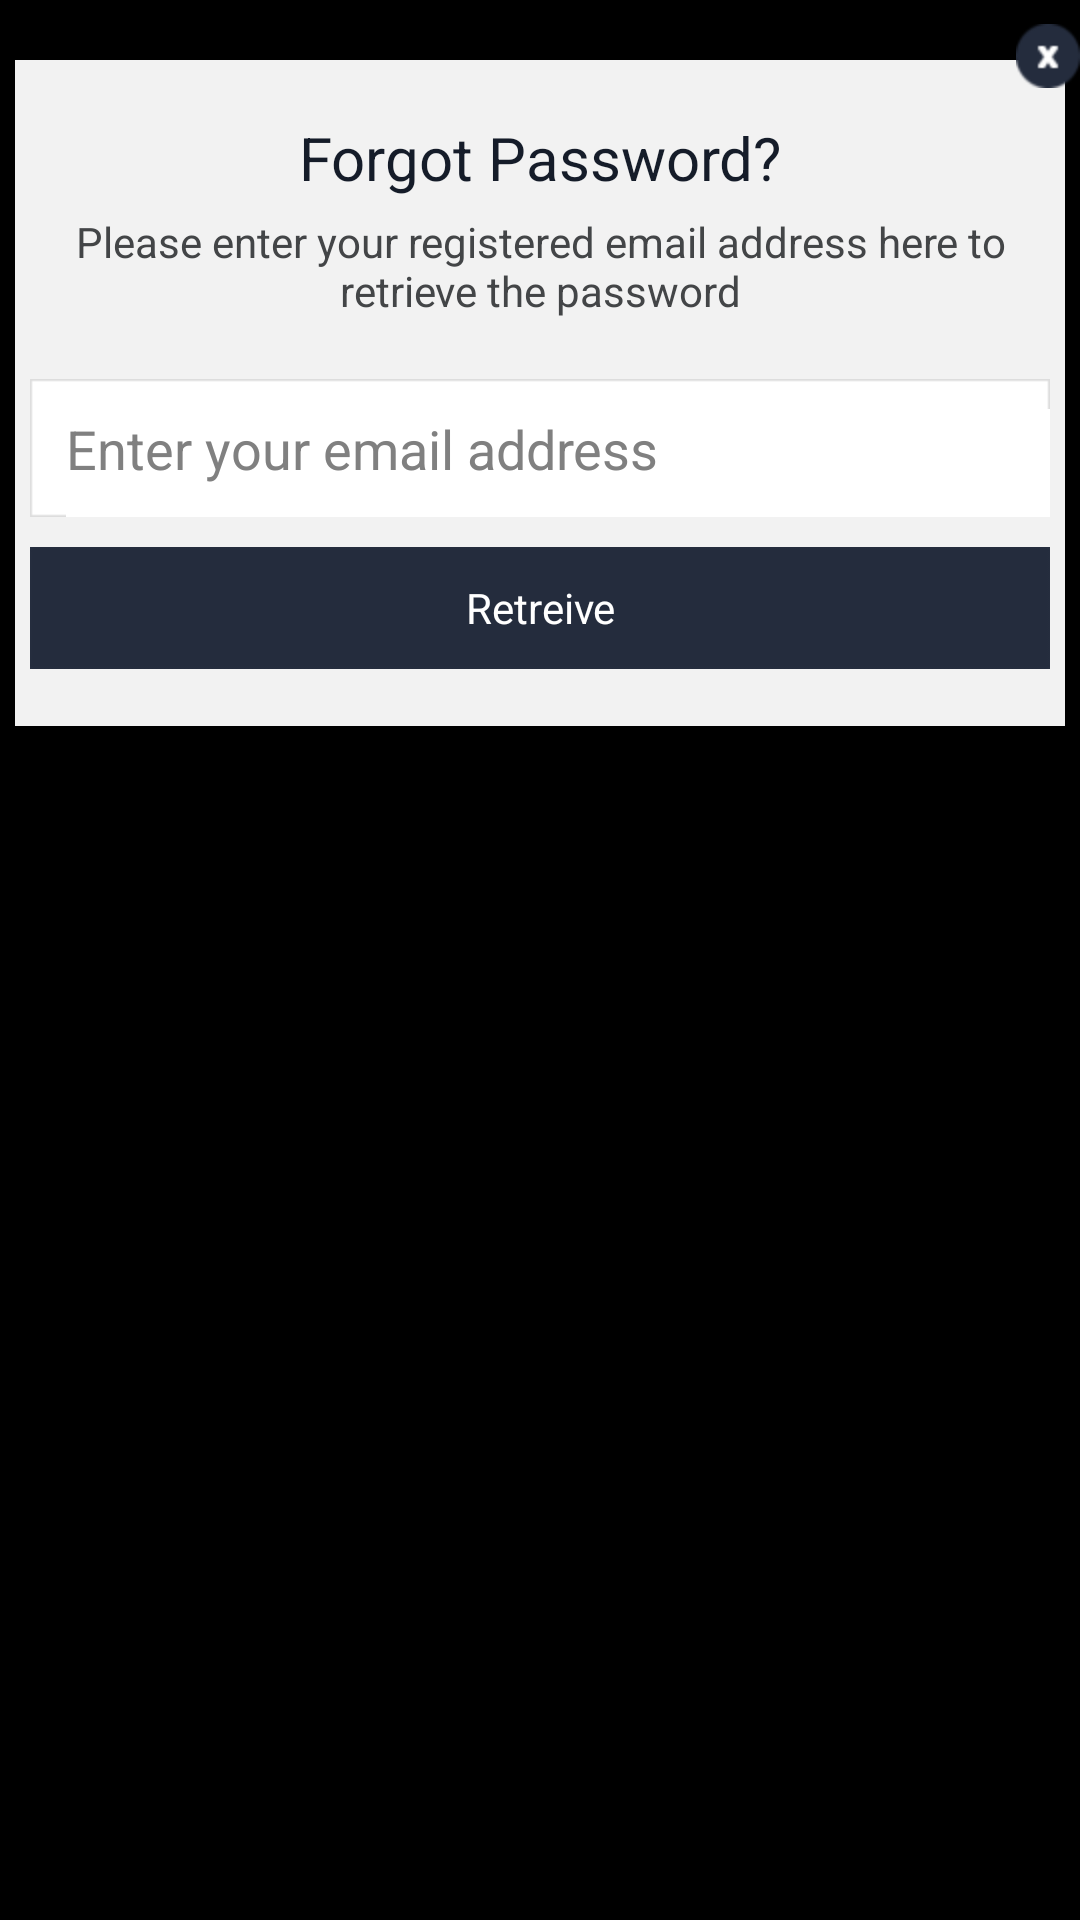

Screen size 1080px x 1920px. Icon name, then its center in pixels as [x,y]:
cross: [1048,56]
